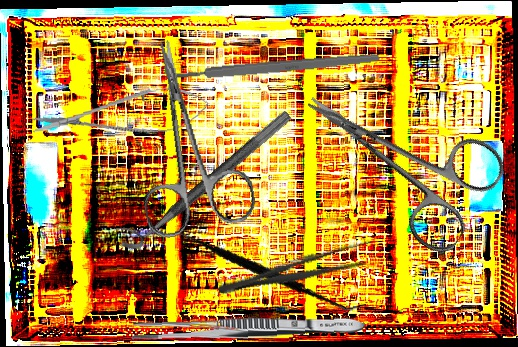Dressing Forceps: (215, 236, 377, 304), (130, 313, 366, 344)
Fixation Ring: (109, 96, 294, 257)
Iris Scissors: (278, 48, 513, 260), (113, 28, 260, 242)
Micro Scissor: (29, 80, 212, 149)
Scalpel Handle: (167, 51, 381, 83)
Spatula Surgical: (161, 201, 367, 339)
